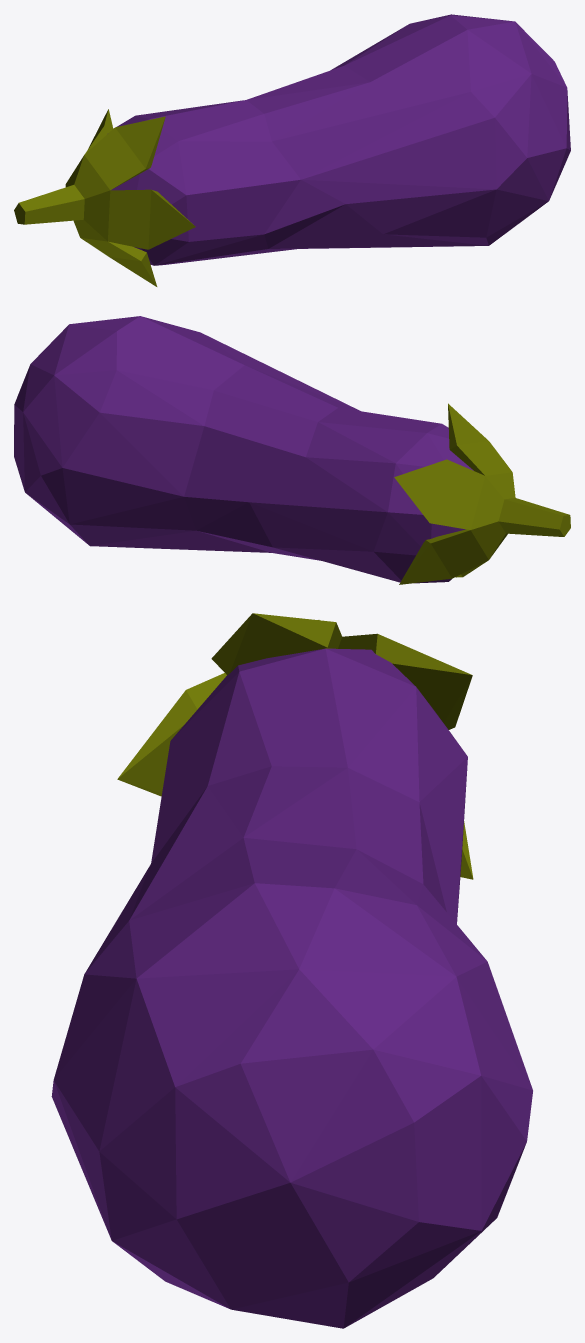
The model's file is EggPlant.glb.
3 renders of one model, top to bottom at view 1: azimuth 30°, elevation 25°; view 2: azimuth 150°, elevation 25°; view 3: azimuth 270°, elevation 25°, orthographic. The views are drawn at different scales.
Visible parts, largest first — view 1: EggPlant; view 2: EggPlant; view 3: EggPlant.
Part boxes in pixels (x1,y1,x2,y2): EggPlant: [14, 14, 570, 286]; EggPlant: [14, 316, 570, 584]; EggPlant: [51, 613, 532, 1328].
Size of the model in its own units: 0.343 by 0.1314 by 0.1342.
